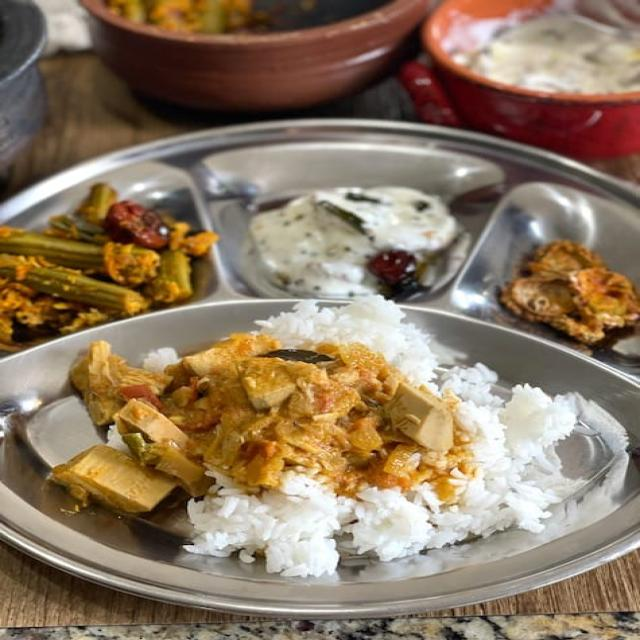veg meals: (0, 113, 640, 600)
